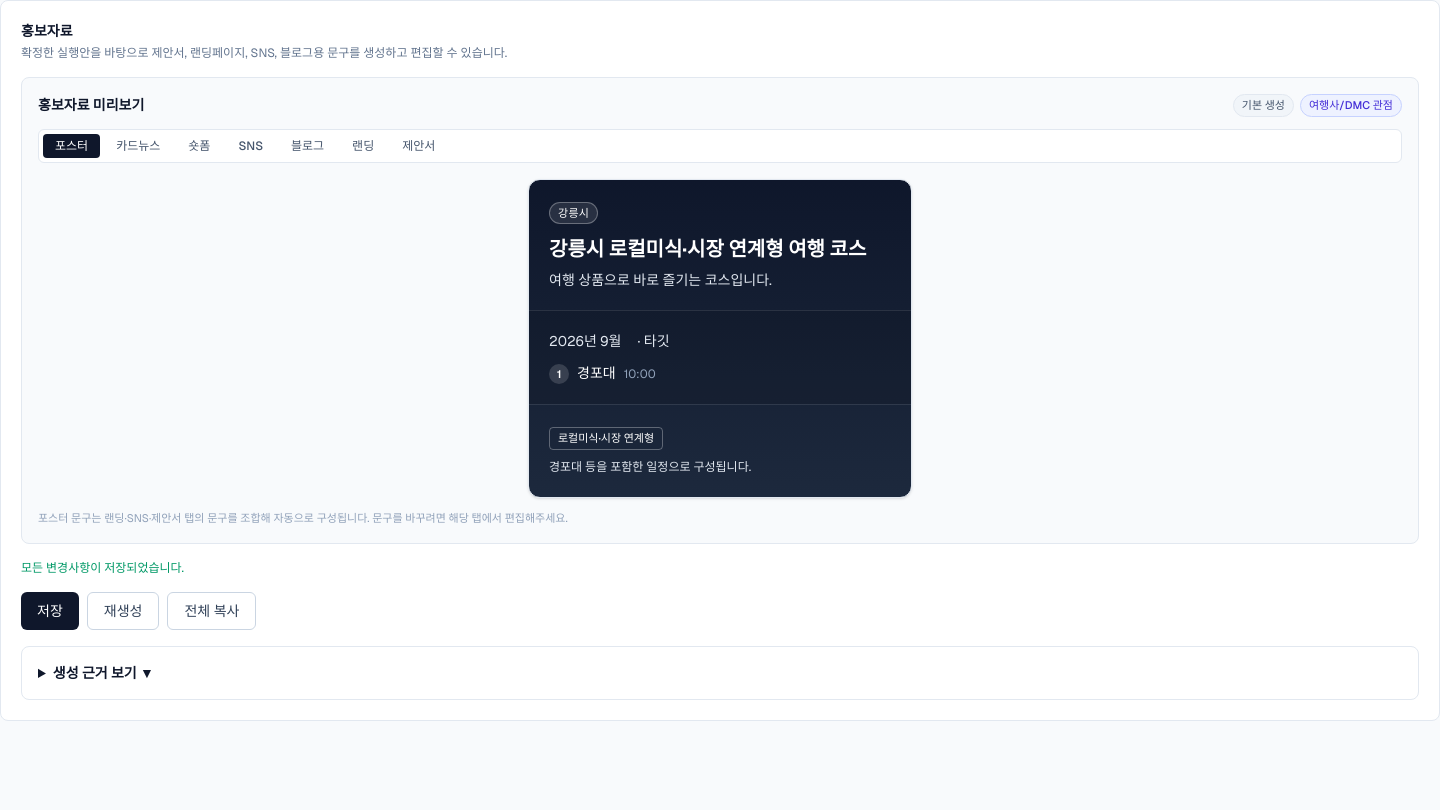
Test: 근거 표시 › 생성 근거를 펼치면 courseHighlights 순서가 유지되고 timeSlot/mealPurpose가 표시된다
This screenshot has width=1440, height=810.
What coordinates should you click on to do the following:
click the button "생성 근거 보기 ▼"
I would click on:
 (103, 673)
Its box is [53,664,154,682].
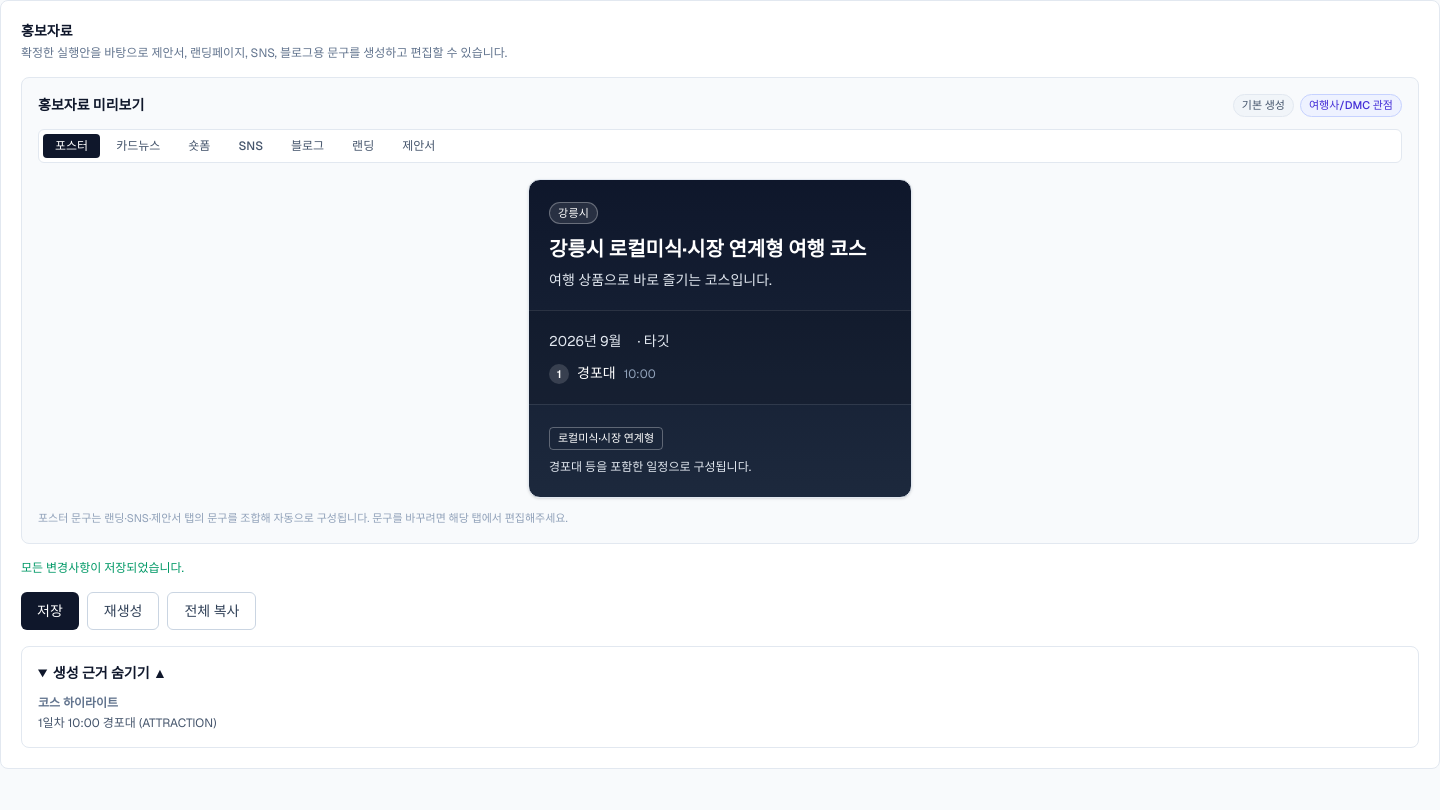
Check: the list item "1일차 10:00 경포대 (ATTRACTION)" is shown, box [38,715,217,731]
